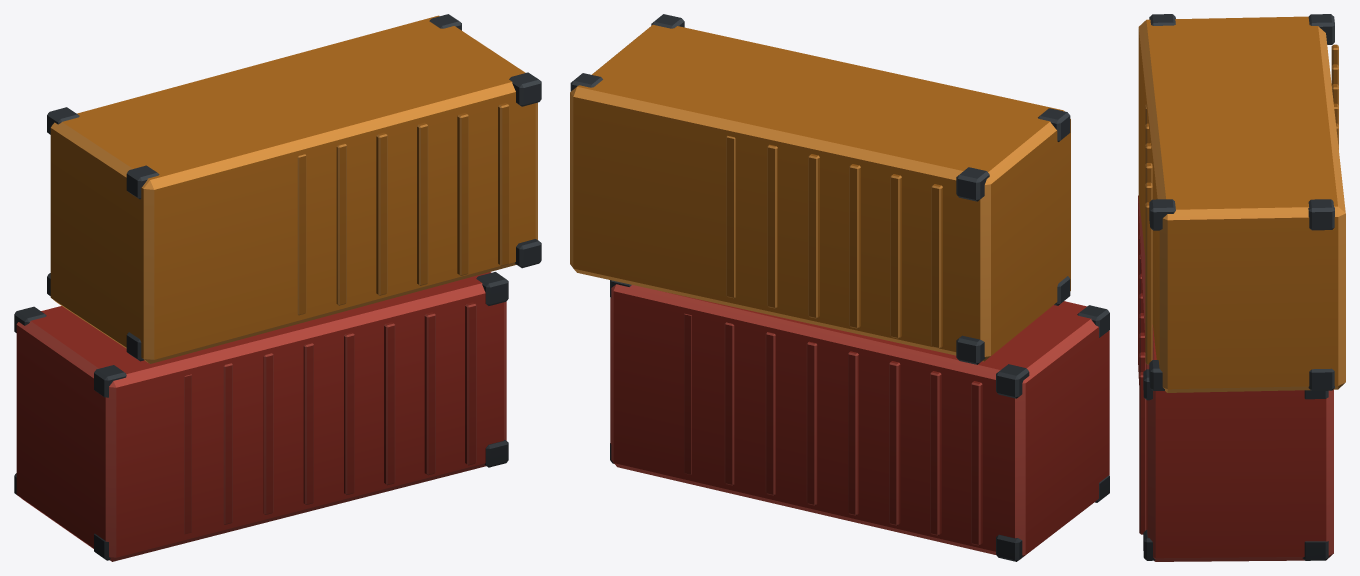
Rendered from container-stack-v1.glb.
The picture shows the model from 3 angles, left to right: view 1: azimuth 30°, elevation 25°; view 2: azimuth 150°, elevation 25°; view 3: azimuth 270°, elevation 25°; orthographic projection.
Parts seen in each view (by area): view 1: container-stack-v1.lod0; view 2: container-stack-v1.lod0; view 3: container-stack-v1.lod0.
Boxes of the visible parts, x1,y1,x2,y2 form: container-stack-v1.lod0: (14, 14, 541, 561); container-stack-v1.lod0: (570, 14, 1109, 561); container-stack-v1.lod0: (1138, 14, 1345, 561).
Size of the model in its own units: 6.6 by 5.29 by 2.67.
